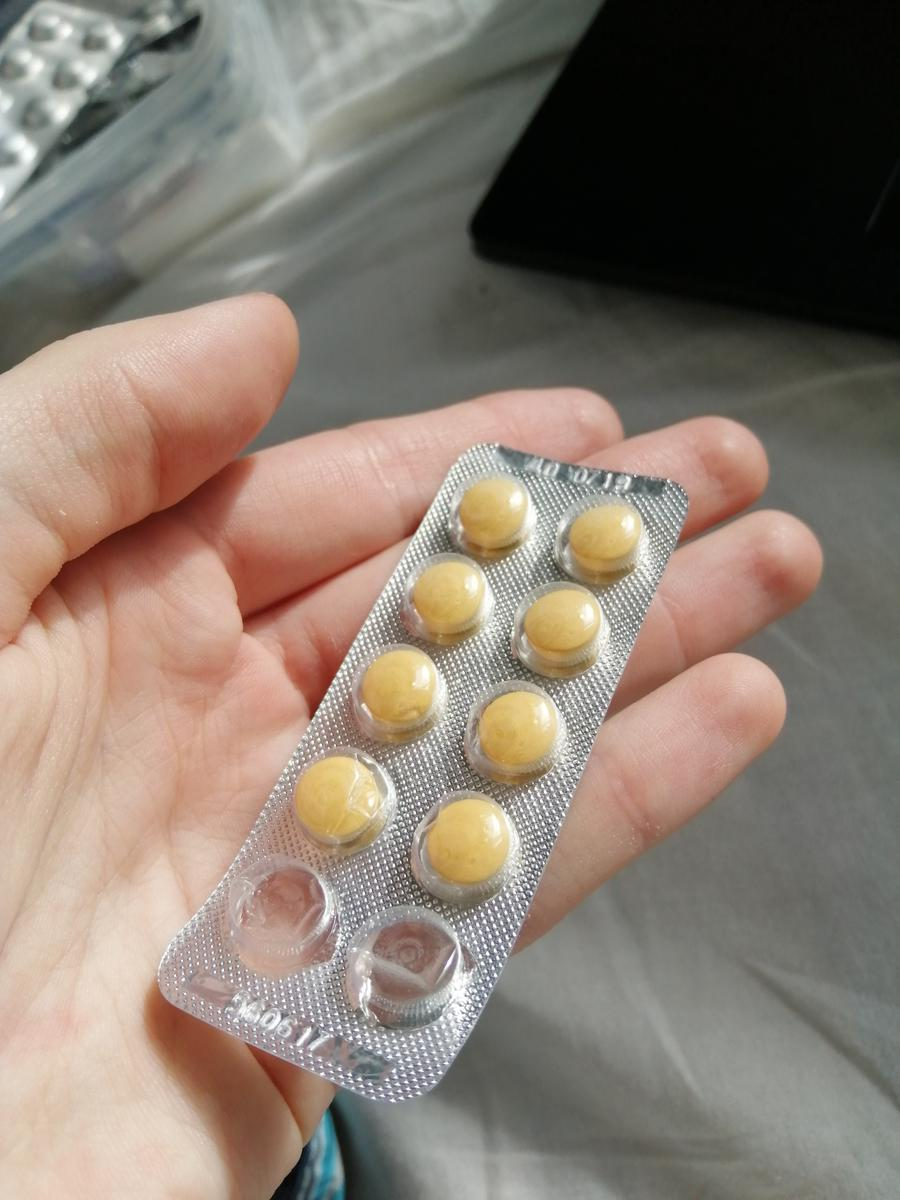tablet: (427, 796, 515, 893), (290, 750, 381, 843), (520, 582, 612, 663), (476, 687, 561, 769), (354, 647, 440, 728), (408, 553, 486, 634), (567, 500, 642, 574), (455, 475, 531, 544)
